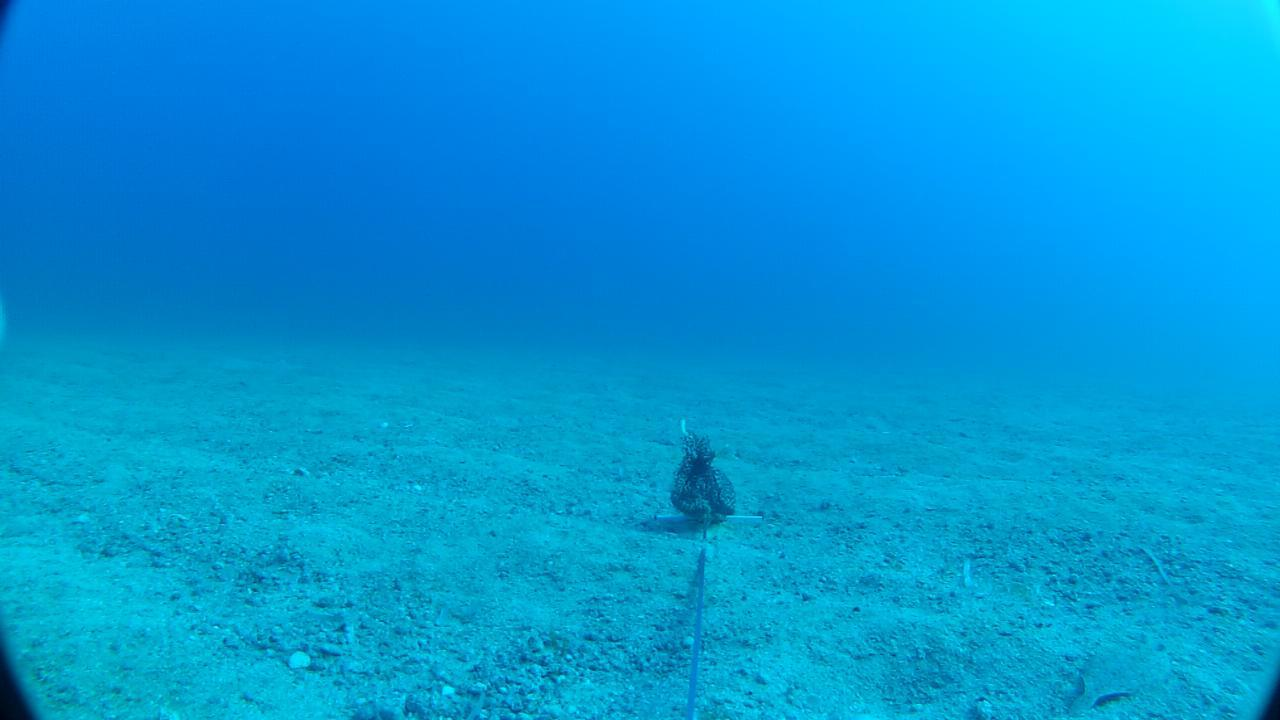bothus: (1066, 637, 1177, 716)
